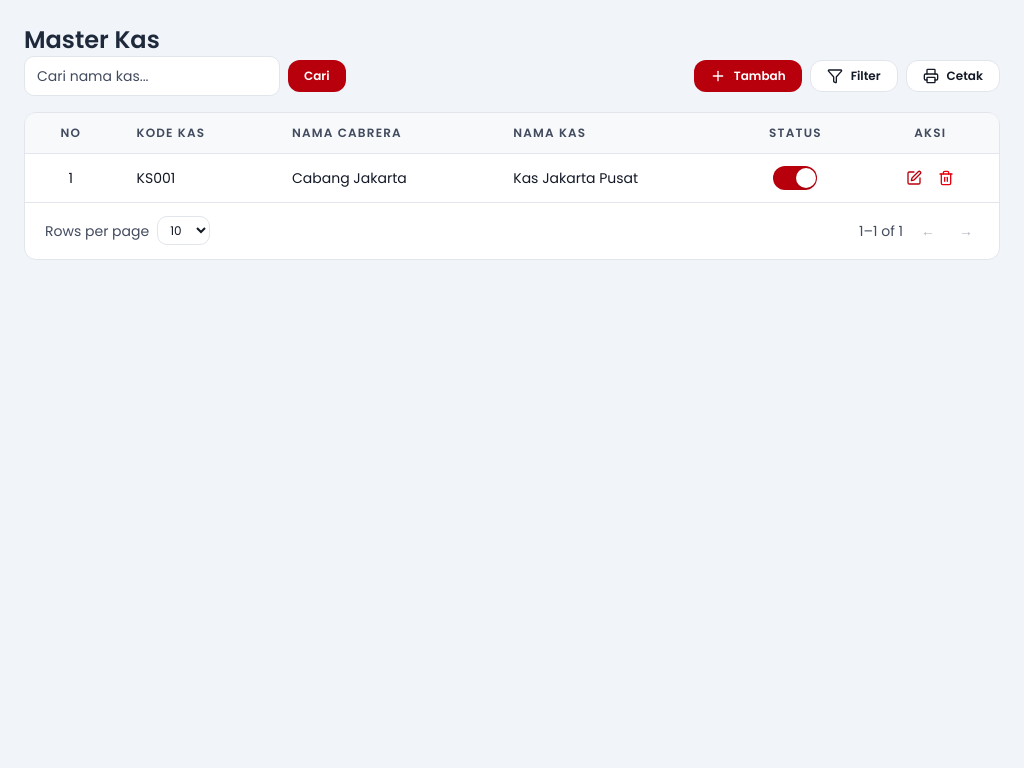
MasterKasScreen › opens form modal when Tambah is clicked
Click the button "Tambah": point(748, 76) [694,60,802,92]
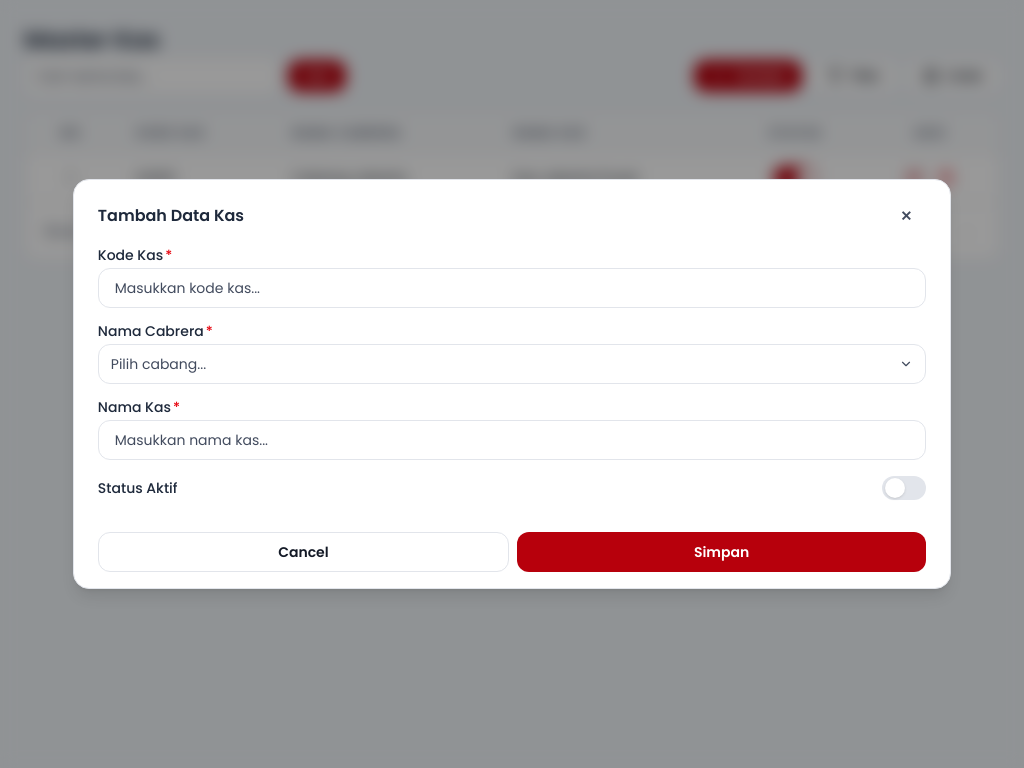
expect the heading "Tambah Data Kas" is shown: met, box [98,204,244,228]
